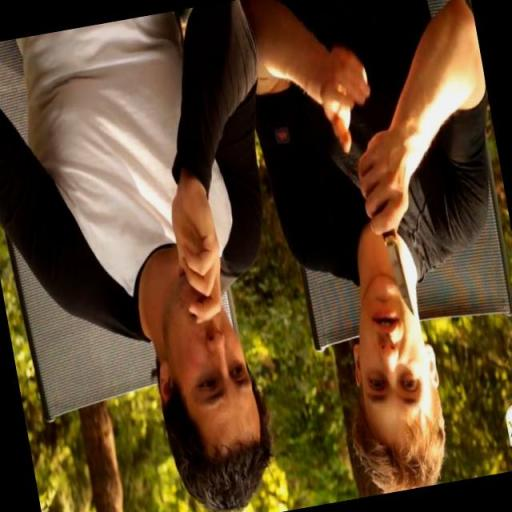knife: (360, 189, 422, 327)
